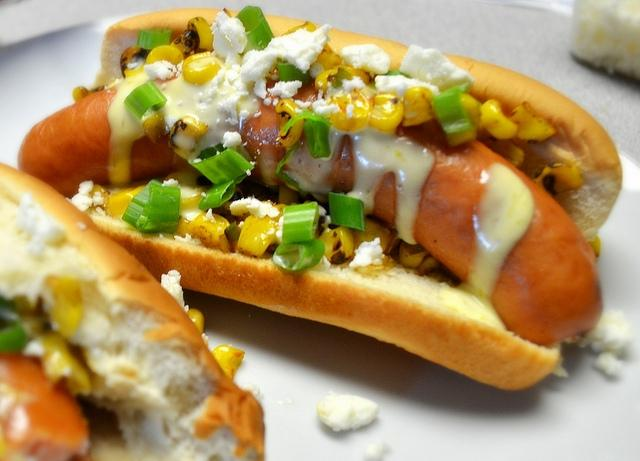green onion: (188, 143, 254, 185), (136, 184, 180, 234), (283, 114, 332, 158), (122, 179, 164, 229), (432, 82, 472, 134), (236, 5, 274, 55), (275, 142, 308, 197), (124, 81, 168, 120), (272, 239, 324, 271), (328, 191, 367, 232), (282, 202, 320, 244), (0, 298, 29, 353), (198, 179, 235, 210), (136, 28, 172, 50), (278, 60, 310, 84)
